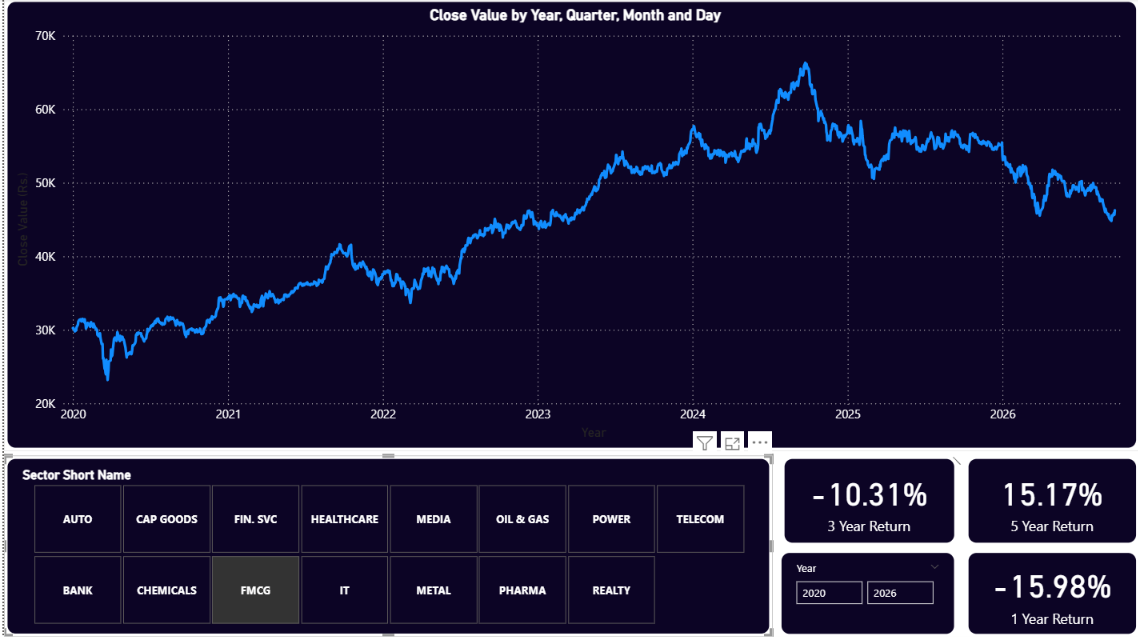

The page's visual inventory and layout, read from the dashboard file:
{"tool":"powerbi","page":{"name":"Page 2","canvas":[1280,720],"ordinal":1},"visuals":[{"type":"lineChart","title":" Close Value by Year, Quarter, Month and Day","fields":{"Category":["Date Table.Date.Variation.Date Hierarchy.Year","Date Table.Date.Variation.Date Hierarchy.Quarter","Date Table.Date.Variation.Date Hierarchy.Month","Date Table.Date.Variation.Date Hierarchy.Day"],"Y":["Max(Combine Data.Close)"]},"box":[0,0,1280.2,510.5],"z":0},{"type":"slicer","fields":{"Values":["Combine Data.Sector Short Name"]},"box":[0,515.1,866.3,204.7],"z":1000},{"type":"slicer","fields":{"Values":["Date Table.Year"]},"box":[872.1,620.9,202.3,98.8],"z":1001},{"type":"card","fields":{"Values":["Combine Data.3 Year Return"]},"box":[875.6,514.5,198.8,102.3],"z":1002},{"type":"card","fields":{"Values":["Combine Data.5 Year Return"]},"box":[1083.7,514.5,196.5,102.3],"z":1003},{"type":"card","fields":{"Values":["Combine Data.1 Year Return"]},"box":[1083.7,620.9,196.5,98.8],"z":1004}]}

Visuals, with their boxes in screenshot pixels (x1, y1, x2, y2), scaled from the page's 1280x720 canvas onto the 1138x637 screenshot:
" Close Value by Year, Quarter, Month and Day" lineChart: select_region(0, 0, 1137, 452)
slicer - Combine Data.Sector Short Name: select_region(0, 456, 770, 636)
slicer - Date Table.Year: select_region(775, 549, 955, 636)
card - Combine Data.3 Year Return: select_region(778, 455, 955, 546)
card - Combine Data.5 Year Return: select_region(963, 455, 1137, 546)
card - Combine Data.1 Year Return: select_region(963, 549, 1137, 636)
